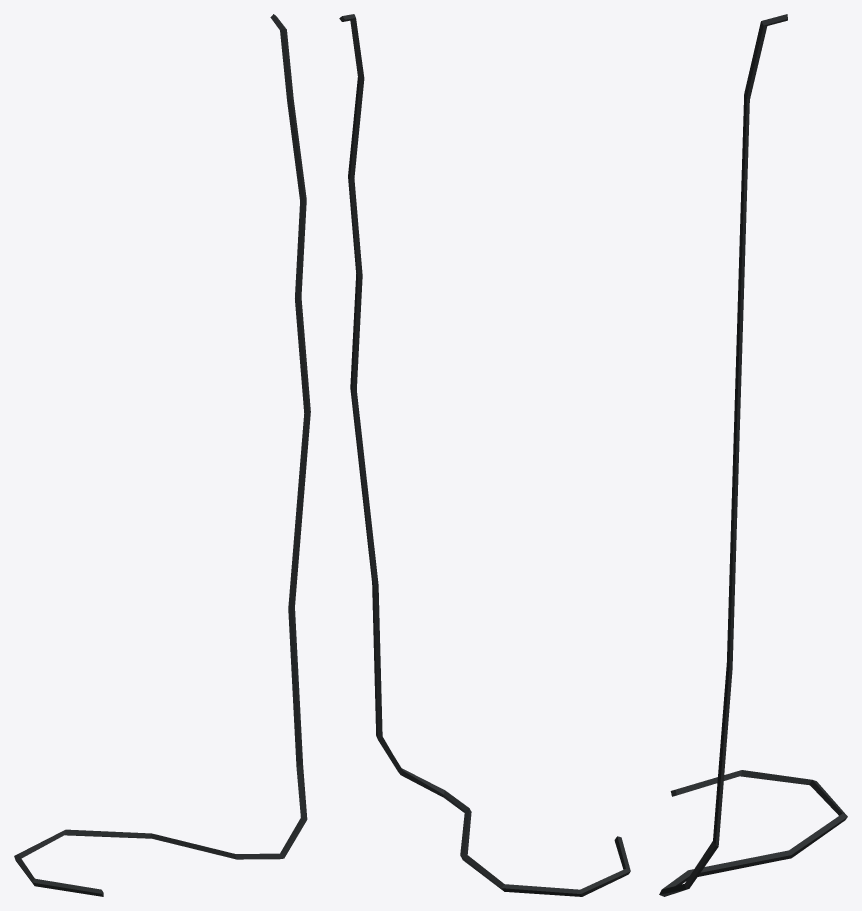
File: SM_Prop_Powerline_09.glb
3 renders of one model, left to right at view 1: azimuth 30°, elevation 25°; view 2: azimuth 150°, elevation 25°; view 3: azimuth 270°, elevation 25°, orthographic. The views are drawn at different scales.
Visible parts, largest first — view 1: SM_Prop_Powerline_09; view 2: SM_Prop_Powerline_09; view 3: SM_Prop_Powerline_09.
Boxes of the visible parts, <box> form: SM_Prop_Powerline_09: <box>14,14,310,896</box>; SM_Prop_Powerline_09: <box>339,14,630,896</box>; SM_Prop_Powerline_09: <box>659,14,847,896</box>.
Bounding box in the file's own units: 1.93 × 5.3 × 0.9952.
1 material, 1 textured.
